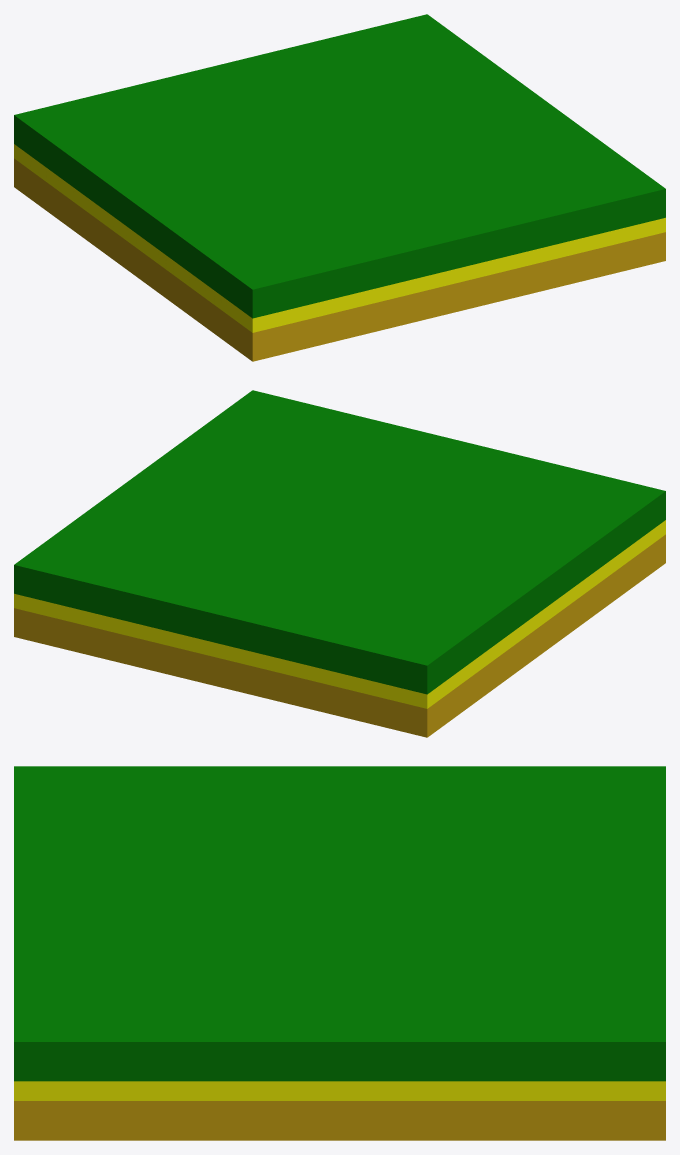
The model's file is 6PZLTCbkHtQ.obj.
3 views of the same model, one above another, from view 1: azimuth 30°, elevation 25°; view 2: azimuth 150°, elevation 25°; view 3: azimuth 270°, elevation 25° (orthographic). The views are drawn at different scales.
Visible parts, largest first — view 1: mesh; view 2: mesh; view 3: mesh.
Boxes of the visible parts, x1,y1,x2,y2 form: mesh: (14,14,665,361); mesh: (14,390,665,737); mesh: (14,766,665,1140).
Bounding box in the file's own units: 3 × 0.5 × 3.
1 material, 1 textured.
